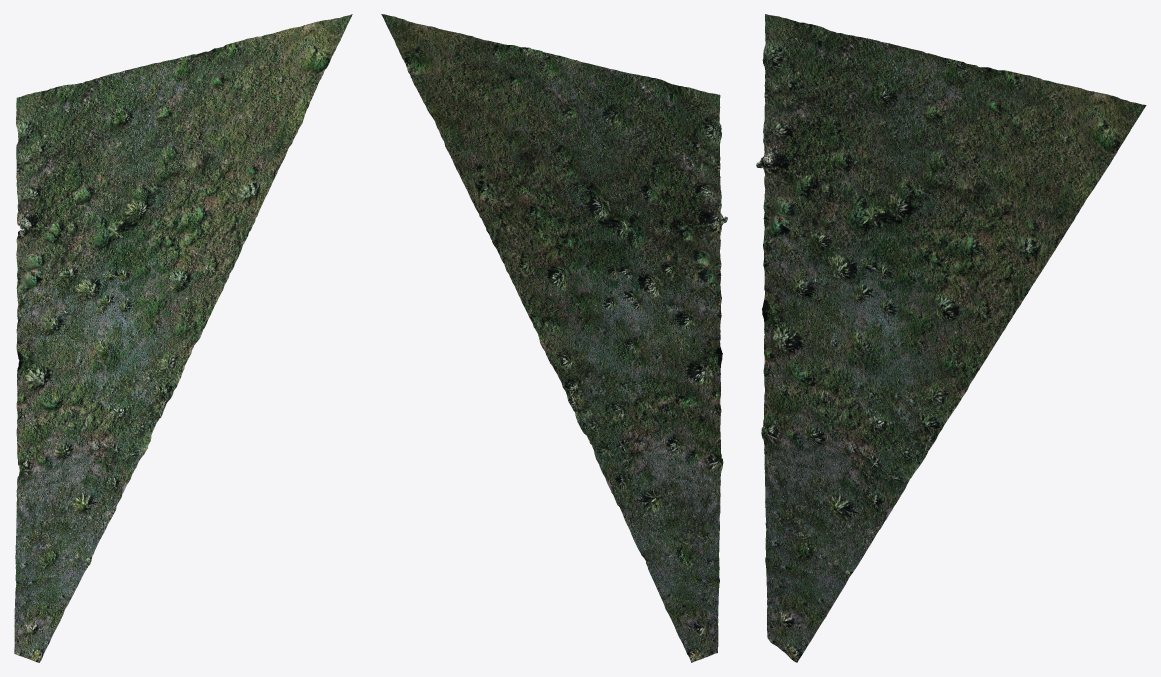
Rendered from Tile_9.fbx.
3 views of the same model, side by side, from view 1: azimuth 30°, elevation 25°; view 2: azimuth 150°, elevation 25°; view 3: azimuth 330°, elevation 25° (orthographic). The views are drawn at different scales.
Visible parts, largest first — view 1: DefaultName; view 2: DefaultName; view 3: DefaultName.
Boxes of the visible parts, bbox=[...] form: DefaultName: bbox=[14, 14, 352, 662]; DefaultName: bbox=[381, 14, 727, 662]; DefaultName: bbox=[756, 14, 1146, 662].
Size of the model in its own units: 11.46 by 18.58 by 0.7056.
1 material, 1 textured.
